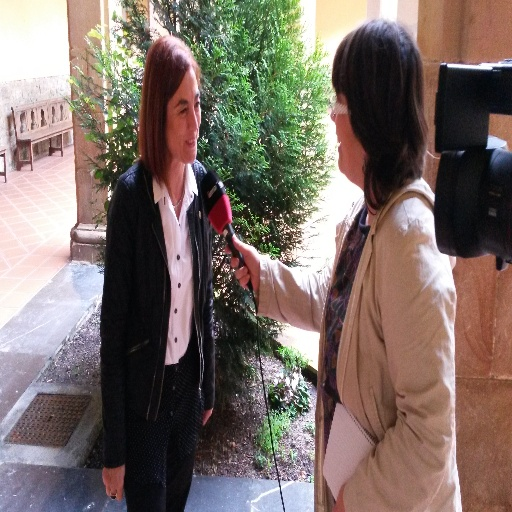hand: (223, 225, 269, 294), (99, 467, 125, 505), (331, 483, 345, 511), (203, 408, 213, 429)
